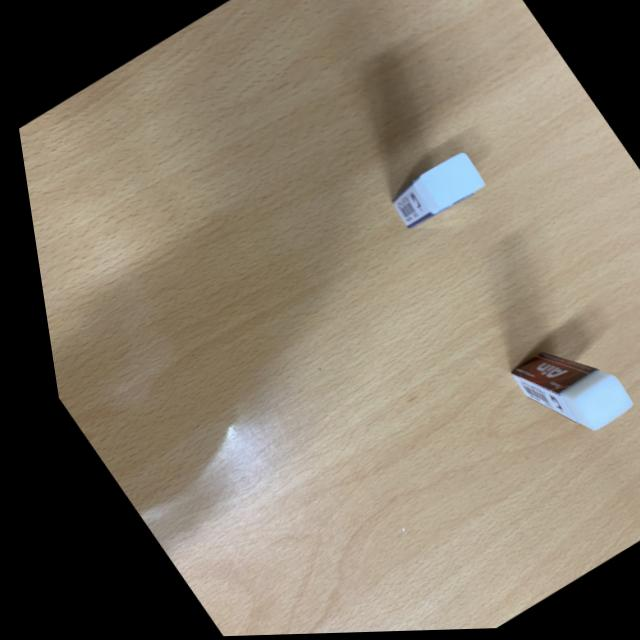blue: (362, 141, 496, 248)
red: (484, 324, 635, 464)
